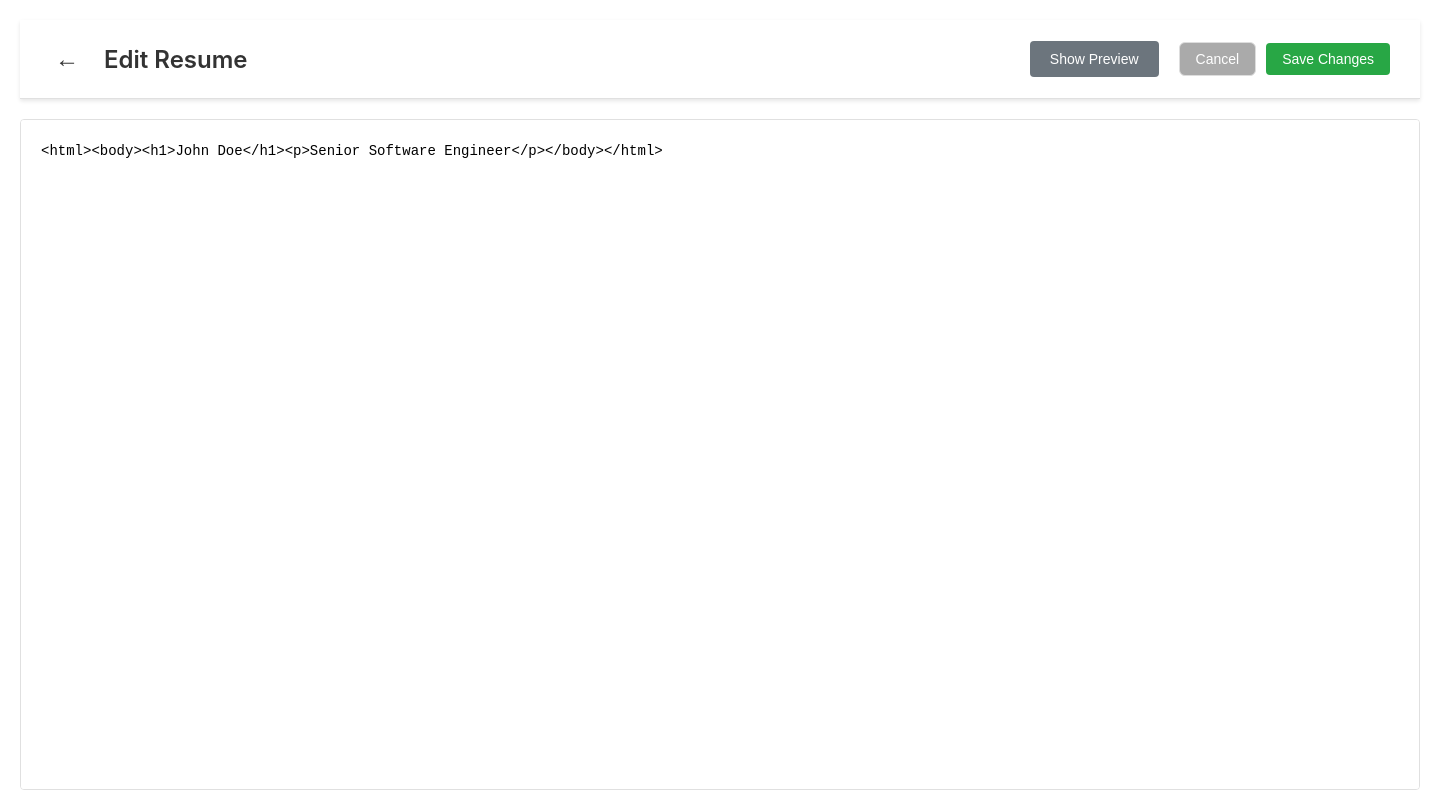
Test case: EditResume Component › Save Functionality › shows saving state while saving
Click the button "Save Changes".
click(1328, 59)  # box [1266,43,1390,75]
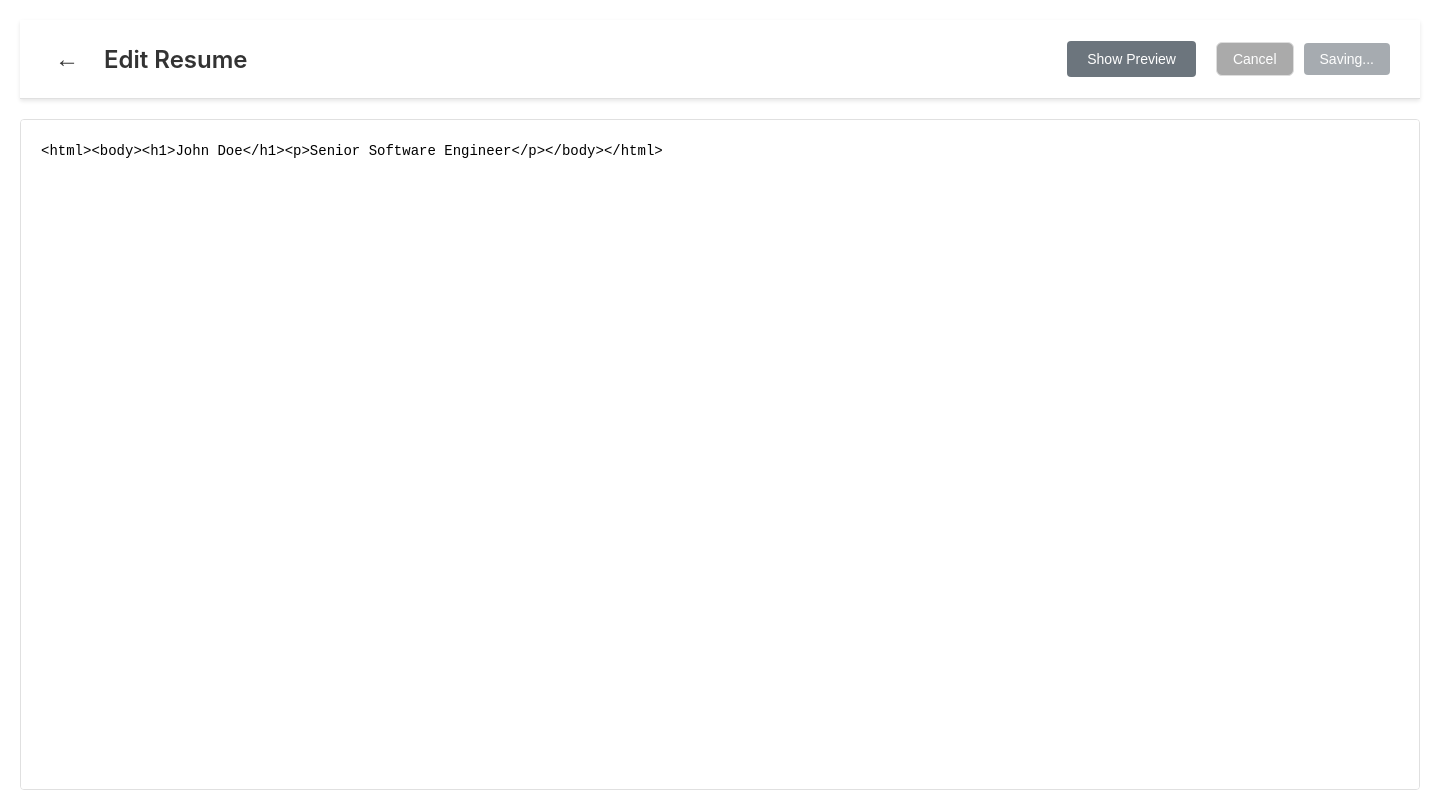
Now the button "Saving..." is shown, box [1304,43,1390,75]
